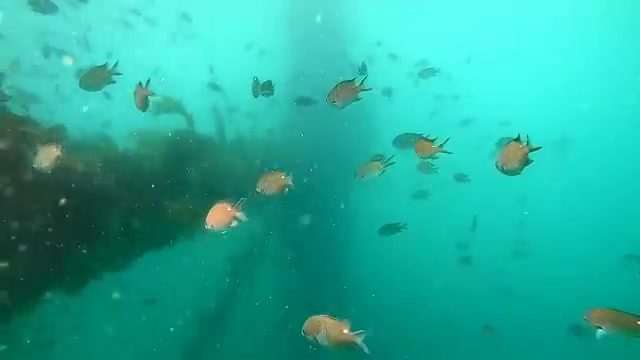smallfish: (292, 302, 379, 354), (342, 138, 405, 191), (484, 131, 543, 180), (196, 196, 255, 244), (323, 68, 374, 116), (75, 53, 133, 94), (28, 136, 76, 184), (244, 165, 298, 202), (412, 128, 458, 168), (365, 217, 413, 245), (414, 65, 443, 83)
